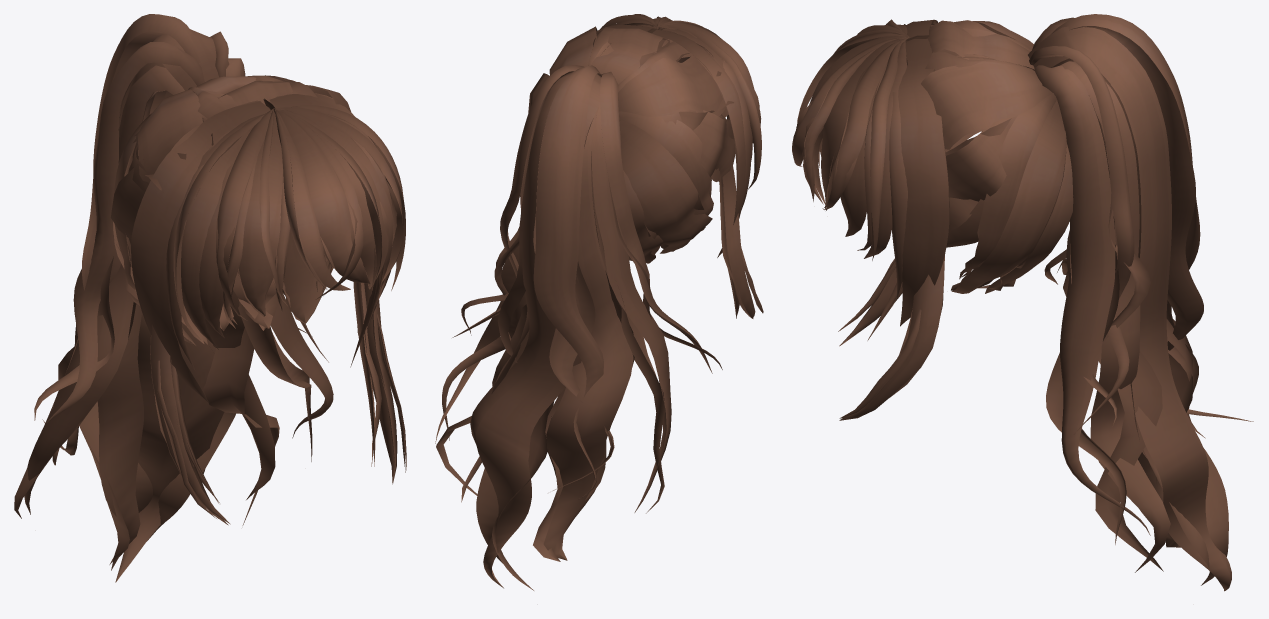
Rendered from vroid_hair_c14.glb.
The picture shows the model from 3 angles, left to right: view 1: azimuth 30°, elevation 25°; view 2: azimuth 150°, elevation 25°; view 3: azimuth 270°, elevation 25°; orthographic projection. The views are drawn at different scales.
Visible parts, largest first — view 1: hair; view 2: hair; view 3: hair.
Part boxes in pixels (x1=…): hair: x1=14, y1=14, x2=406, y2=582; hair: x1=435, y1=14, x2=763, y2=590; hair: x1=792, y1=14, x2=1253, y2=591.
Bounding box in the file's own units: 0.2691 × 0.5122 × 0.3649.
1 material, 1 textured.
